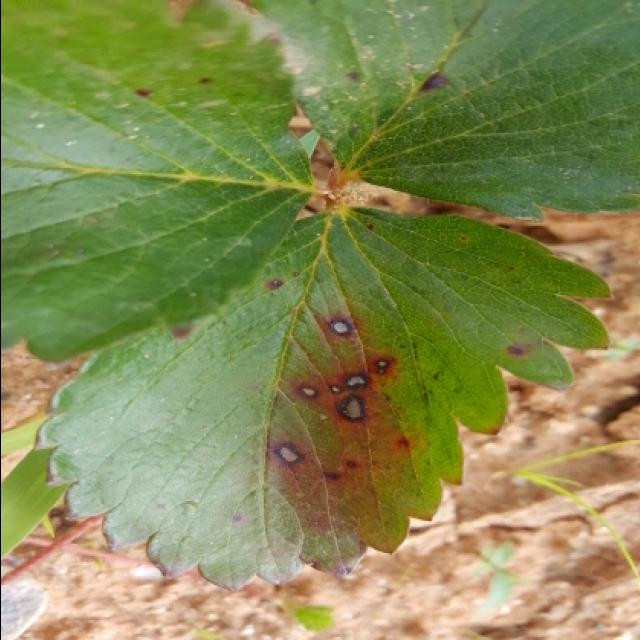Leaf Spot: (31, 204, 611, 595), (2, 0, 314, 365), (226, 0, 640, 223)
